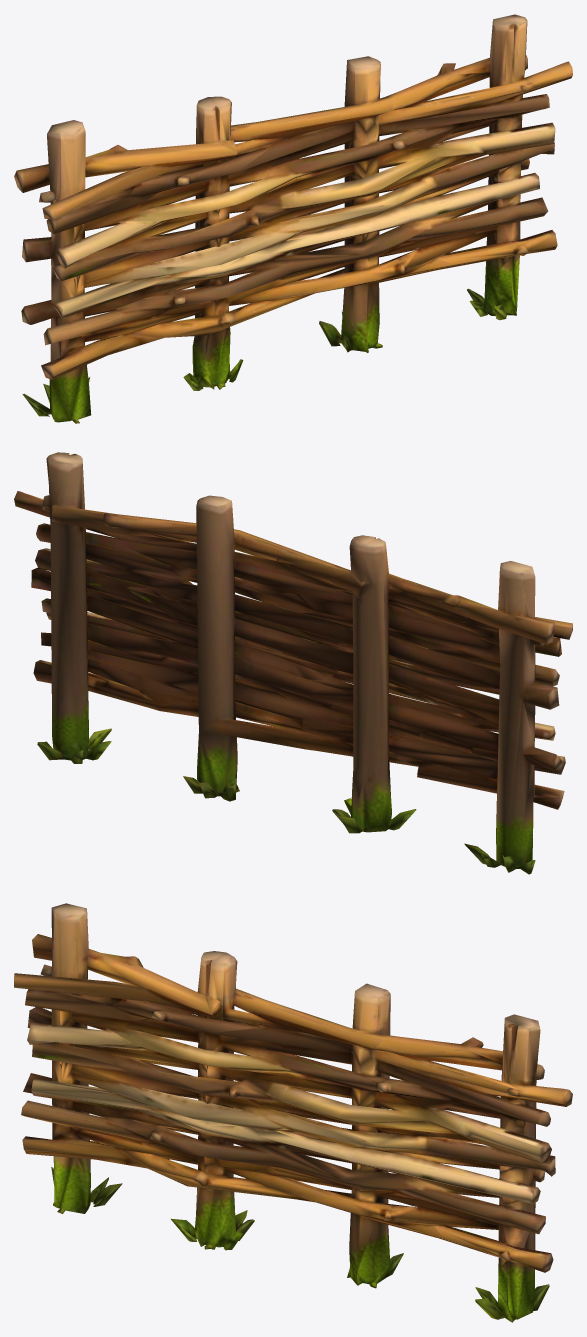
Rendered from wattle-fence.glb.
3 views of the same model, one above another, from view 1: azimuth 30°, elevation 25°; view 2: azimuth 150°, elevation 25°; view 3: azimuth 330°, elevation 25° (orthographic). The views are drawn at different scales.
Parts seen in each view (by area): view 1: node_0; view 2: node_0; view 3: node_0.
Boxes of the visible parts, x1,y1,x2,y2 form: node_0: [14, 14, 572, 423]; node_0: [14, 452, 572, 874]; node_0: [14, 903, 572, 1322].
Bounding box in the file's own units: 2.31 × 1.2 × 0.2986.
Materials: 1 (1 with a texture image).
